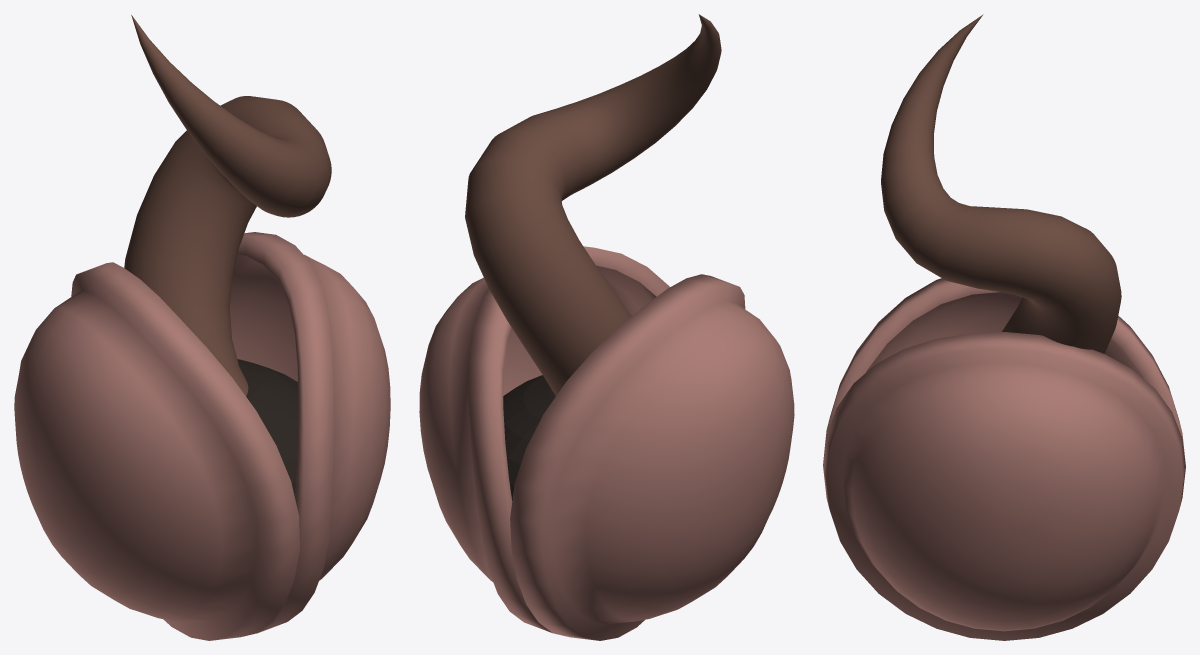
Rendered from seed.glb.
The picture shows the model from 3 angles, left to right: view 1: azimuth 30°, elevation 25°; view 2: azimuth 150°, elevation 25°; view 3: azimuth 270°, elevation 25°; orthographic projection. The views are drawn at different scales.
Parts seen in each view (by area): view 1: Seed; view 2: Seed; view 3: Seed.
Part boxes in pixels (bbox=[...]): Seed: bbox=[14, 15, 390, 640]; Seed: bbox=[419, 14, 794, 640]; Seed: bbox=[823, 14, 1185, 640].
Size of the model in its own units: 2.1 by 3.87 by 2.19.
Materials: 1 (1 with a texture image).
